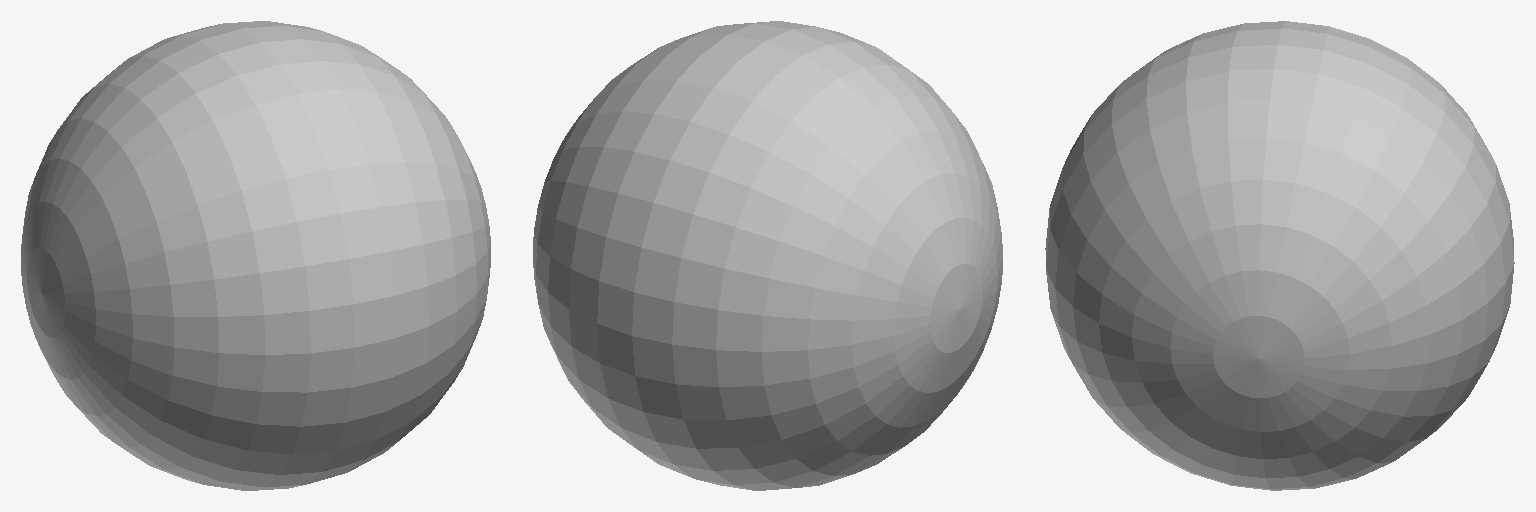
The model's file is left_hand.obj.
The picture shows the model from 3 angles: view 1: azimuth 30°, elevation 25°; view 2: azimuth 150°, elevation 25°; view 3: azimuth 270°, elevation 25°; orthographic projection.
Parts seen in each view (by area): view 1: Sphere.002_Sphere.003; view 2: Sphere.002_Sphere.003; view 3: Sphere.002_Sphere.003.
Part boxes in pixels (x1,y1,x2,y2): Sphere.002_Sphere.003: (21,21,490,490); Sphere.002_Sphere.003: (533,21,1002,490); Sphere.002_Sphere.003: (1045,21,1514,490).
Size of the model in its own units: 0.4186 by 0.4204 by 0.4187.